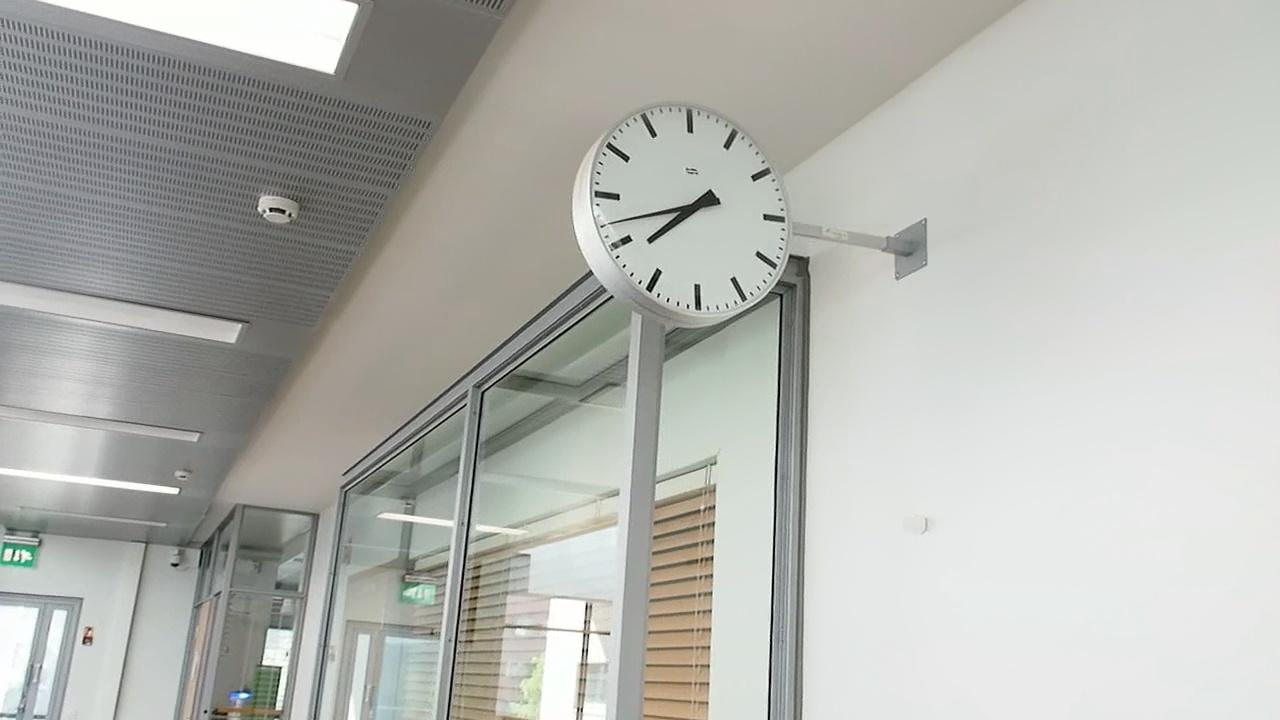clock: (571, 91, 802, 323)
